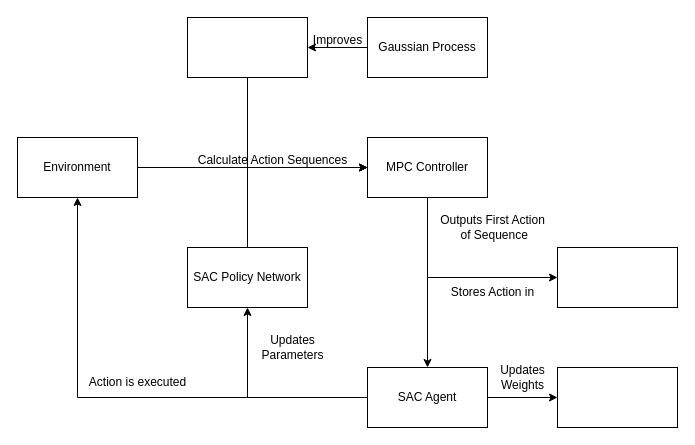
Some shapes in this 695 by 445 pixel diagram are drawn without their labels. The shapes that lost their labels are listed below. From the top down, each one's centre as x and y in pixels, then its label:
[247,47]: Model Dynamics
[617,277]: Replay Pool
[617,397]: SAC Q-Functions Network
